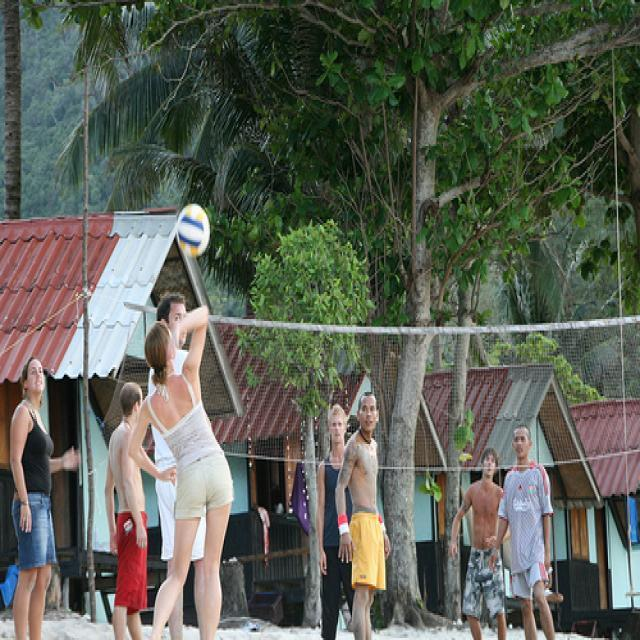volleyball: (177, 205, 210, 257)
